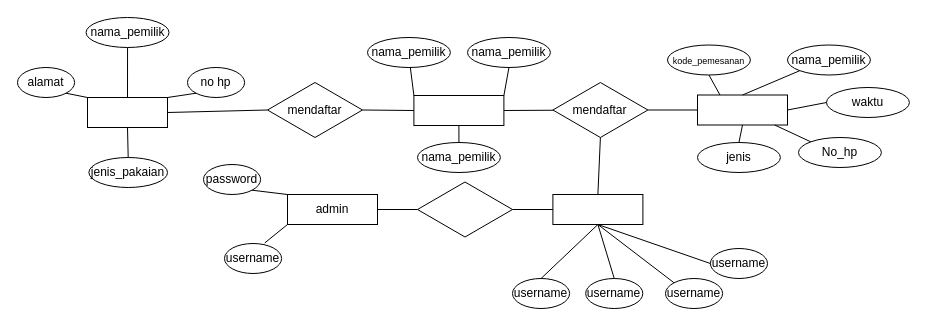
Image size: 927x326. Some labels were removed from this diagram. Each missing label, with the centre of its shape:
Costumer: the point at 127,112
komentar: the point at 597,209
mengirimkan: the point at 464,209
